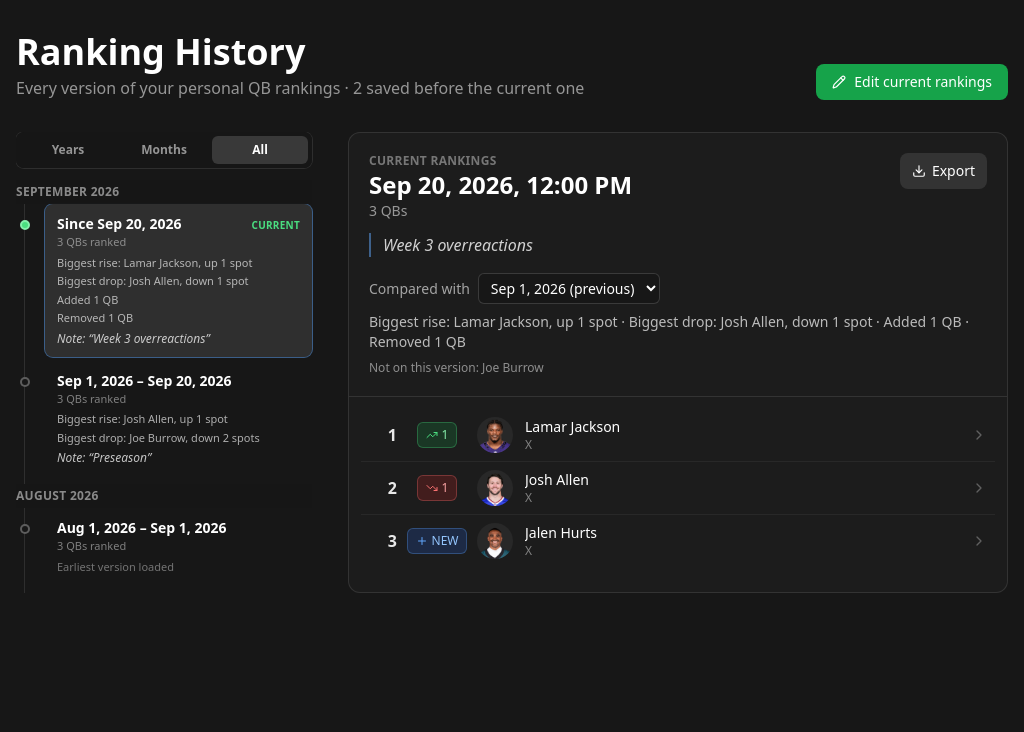
Test: ranking history page › shows one quarterback's rank across every version
The width and height of the screenshot is (1024, 732).
Check: the text "Current rankings" is shown, box [369,152,497,169]
Click the text "Lamar Jackson" at (573, 426), box [525,417,620,436]
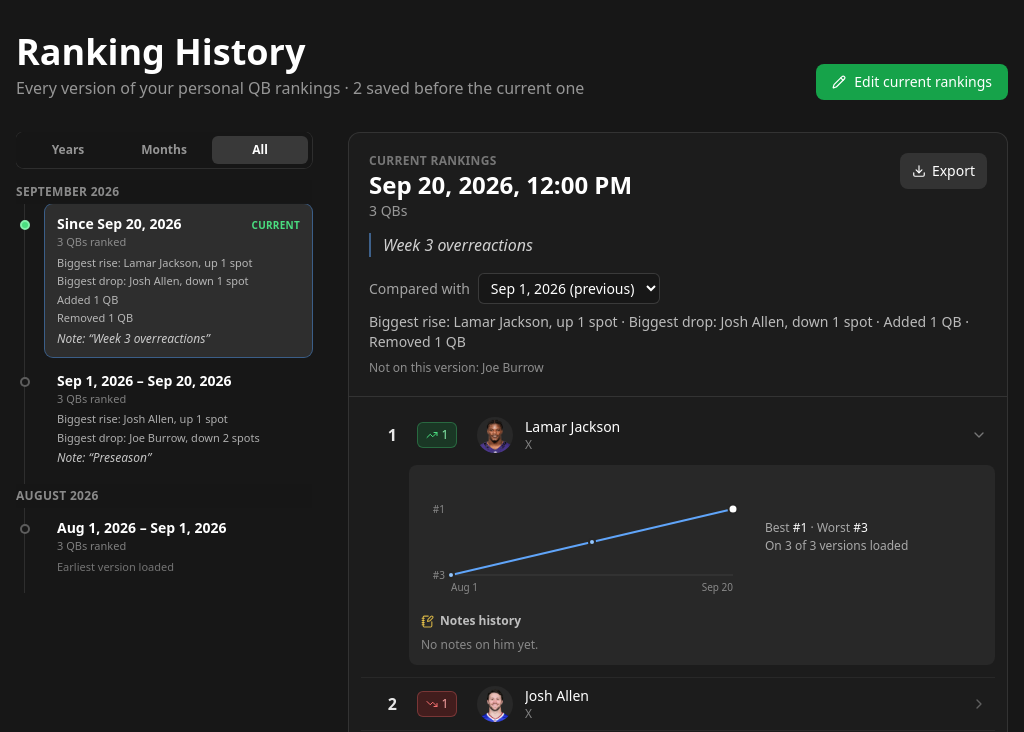
Check: the text "Aug 1" is shown, box [451,580,478,594]
Check: the text "On 3 of 3 versions loaded" is shown, box [765,538,908,554]
